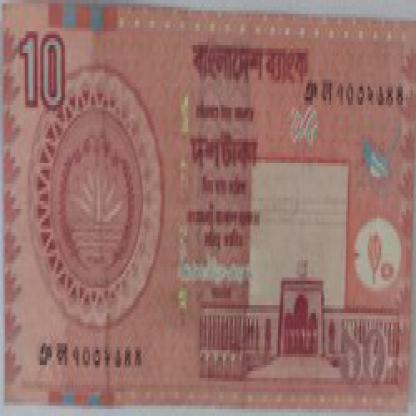Ten Taka: (19, 25, 78, 128), (335, 312, 394, 395)
